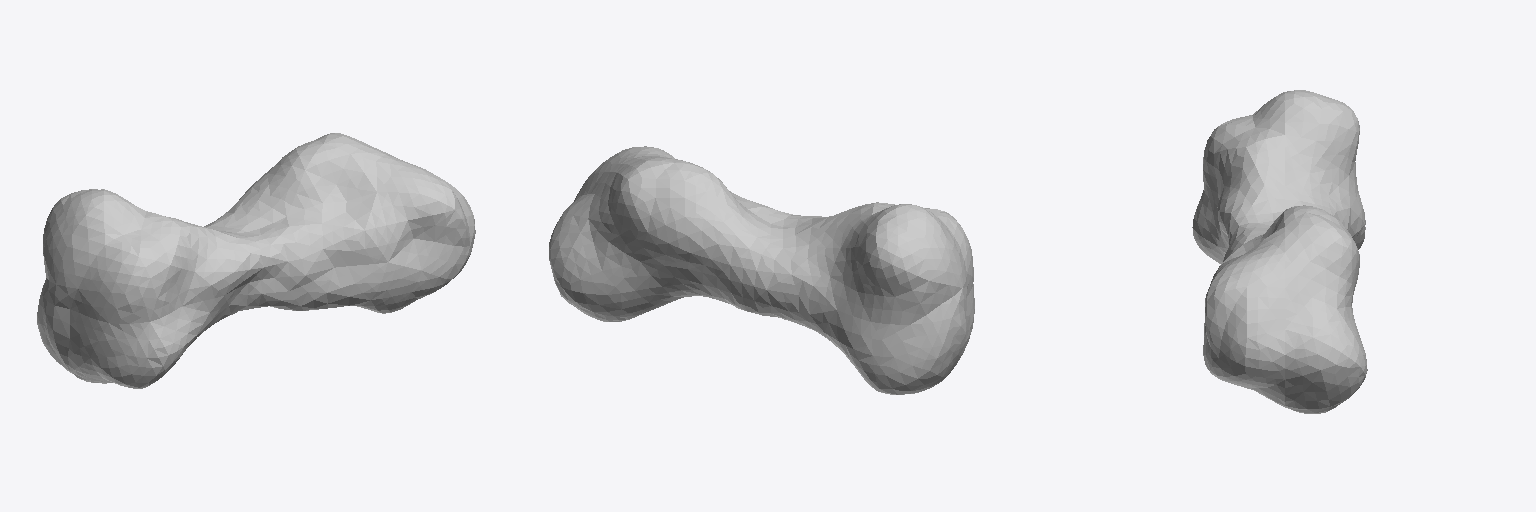
File: Kleopatra.obj
The picture shows the model from 3 angles: view 1: azimuth 30°, elevation 25°; view 2: azimuth 150°, elevation 25°; view 3: azimuth 270°, elevation 25°; orthographic projection.
Parts seen in each view (by area): view 1: 216kleopatra; view 2: 216kleopatra; view 3: 216kleopatra.
Part boxes in pixels (bbox=[...]): 216kleopatra: bbox=[37, 133, 475, 388]; 216kleopatra: bbox=[549, 146, 974, 394]; 216kleopatra: bbox=[1192, 90, 1367, 413].
Bounding box in the file's own units: 9.74 × 4.2 × 3.66.